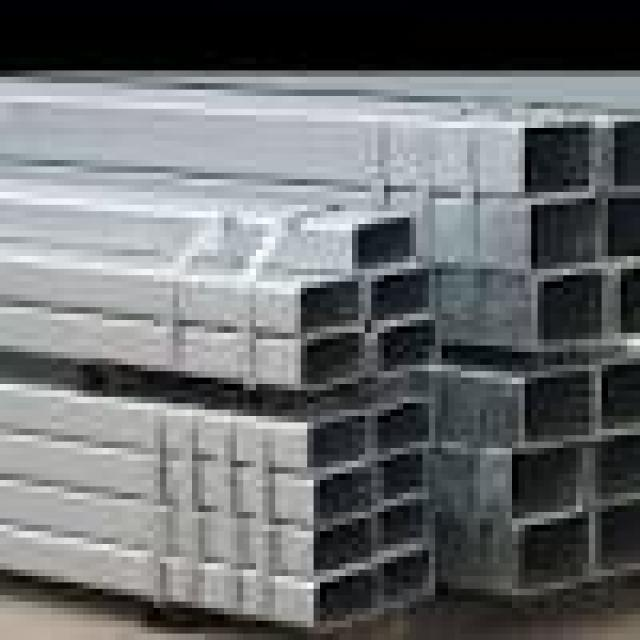pipe: (518, 369, 593, 447), (516, 511, 587, 590), (511, 445, 584, 517), (522, 123, 592, 196), (536, 268, 602, 345), (527, 198, 597, 270), (313, 567, 374, 631), (593, 495, 640, 575), (351, 215, 415, 270), (377, 317, 438, 374), (311, 517, 369, 576), (371, 268, 431, 324), (301, 278, 359, 334), (313, 467, 370, 523), (302, 331, 360, 386), (600, 358, 640, 435), (375, 402, 431, 456), (381, 547, 431, 607), (308, 414, 365, 466), (595, 437, 640, 501), (378, 494, 425, 553), (379, 452, 425, 501), (606, 196, 640, 258), (610, 120, 640, 186), (617, 266, 640, 337)
